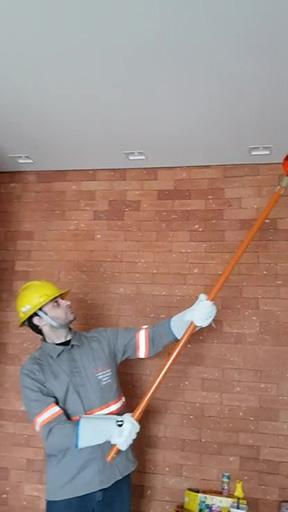Vara_Manobra: (107, 179, 286, 461)
